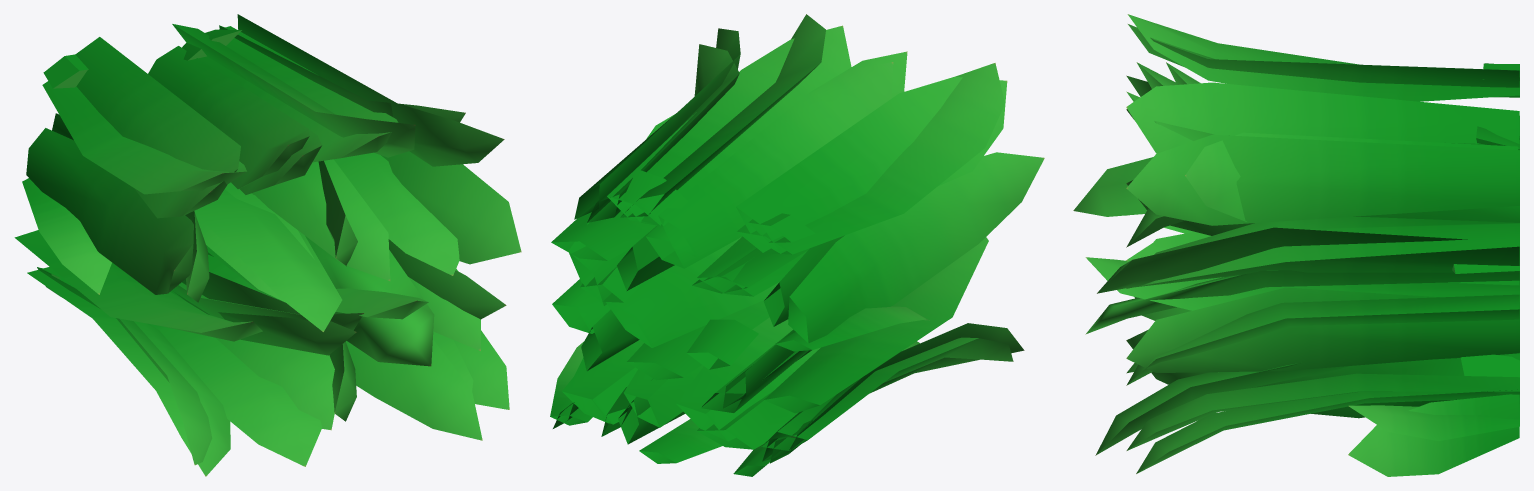
File: bb_grass.glb
The picture shows the model from 3 angles, left to right: view 1: azimuth 30°, elevation 25°; view 2: azimuth 150°, elevation 25°; view 3: azimuth 270°, elevation 25°; orthographic projection. The views are drawn at different scales.
Visible parts, largest first — view 1: grass_1b, grass_1, grass_1_destroyed; view 2: grass_1, grass_1b, grass_1_destroyed; view 3: grass_1, grass_1b, grass_1_destroyed.
Part boxes in pixels (x1,y1,x2,y2): grass_1b: [26, 24, 521, 476]; grass_1: [14, 14, 506, 466]; grass_1_destroyed: [37, 29, 241, 297]; grass_1: [550, 25, 1024, 463]; grass_1b: [552, 14, 1044, 476]; grass_1_destroyed: [580, 169, 815, 463]; grass_1: [1085, 14, 1519, 450]; grass_1b: [1073, 24, 1519, 476]; grass_1_destroyed: [1452, 63, 1519, 403].
Bounding box in the file's own units: 1.21 × 1.05 × 1.3.
1 material, 1 textured.
